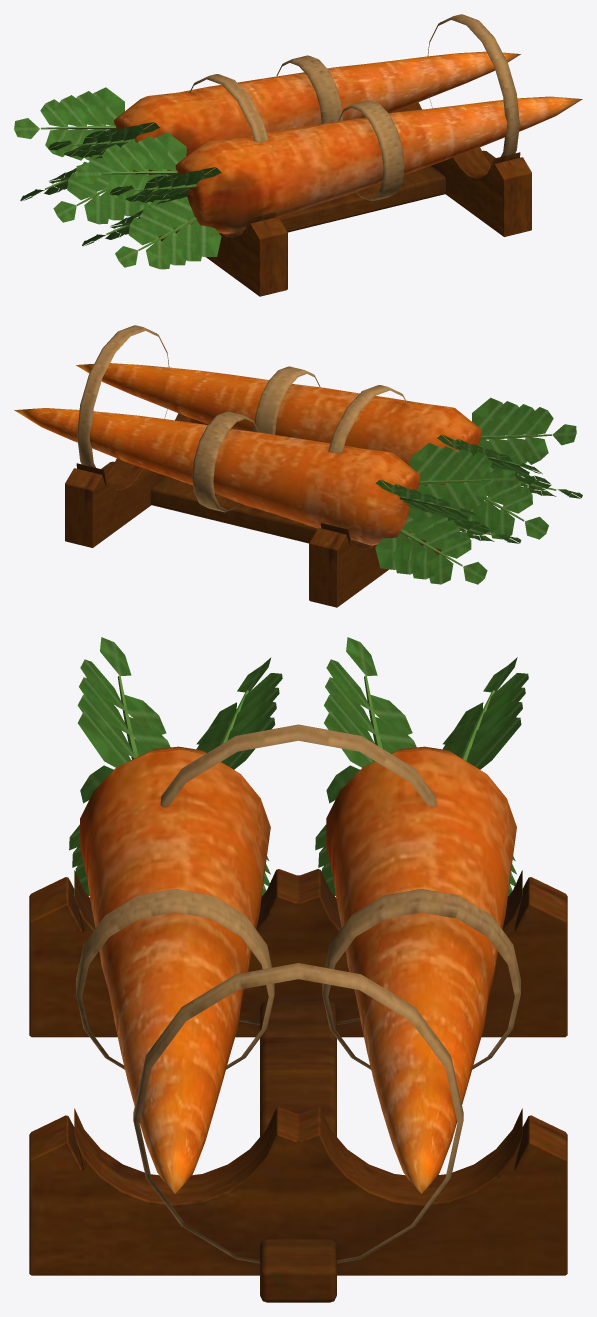
File: ammo_rocket.glb
3 renders of one model, top to bottom at view 1: azimuth 30°, elevation 25°; view 2: azimuth 150°, elevation 25°; view 3: azimuth 270°, elevation 25°, orthographic. The views are drawn at different scales.
Visible parts, largest first — view 1: ammo_rocket; view 2: ammo_rocket; view 3: ammo_rocket.
Part boxes in pixels (<box>): ammo_rocket: <box>14,14,582,296</box>; ammo_rocket: <box>14,325,582,607</box>; ammo_rocket: <box>29,637,567,1302</box>.
Bounding box in the file's own units: 0.4376 × 0.1364 × 0.21.
1 material, 1 textured.
